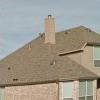Chimney: (37, 11, 58, 42)
